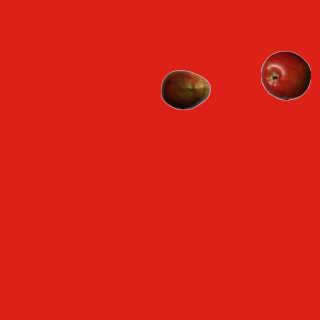Apple Braeburn: (260, 50, 310, 100)
Mango Red: (160, 64, 210, 114)
